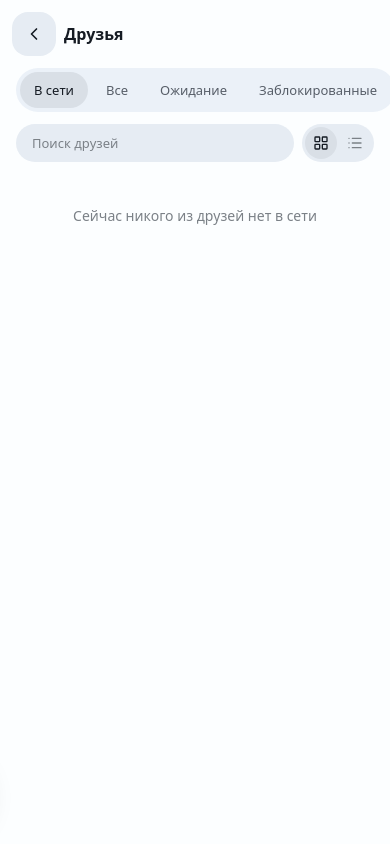
Test case: phone list screen › switches between servers and chats from its tab bar, staying on the list
The image size is (390, 844).
Step 1. Click the button named "Открыть меню" → (34, 34), box [12,12,56,56]
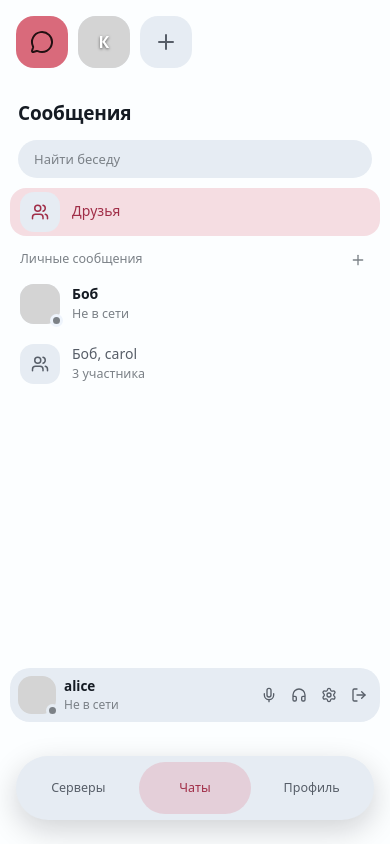
Step 2. Click the button "Серверы" → (78, 788), box [22,762,135,814]
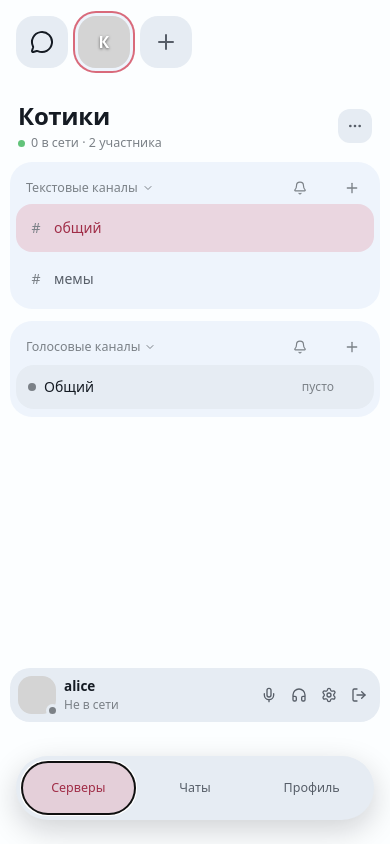
Expected: the element with test id "navigation-drawer" has attribute data-open="true"
Expected: the button "Серверы" is marked as current, [22,762,135,814]
Step 3. Click the button "Чаты" → (195, 788), box [139,762,251,814]
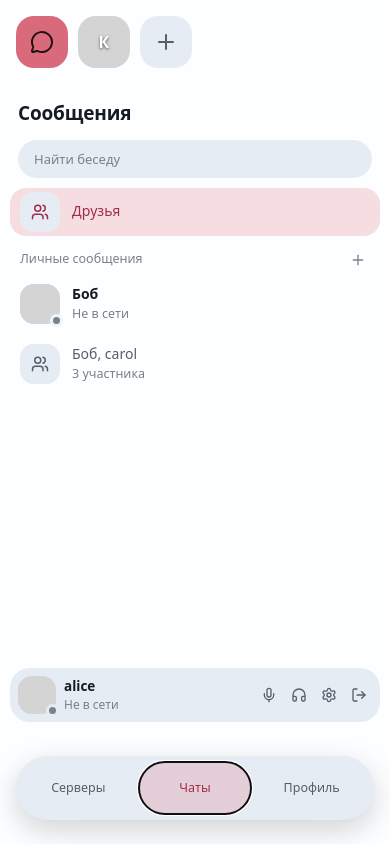
Expected: the element with test id "navigation-drawer" has attribute data-open="true"
Step 4. Click the button "Профиль" → (312, 788), box [255,762,368,814]
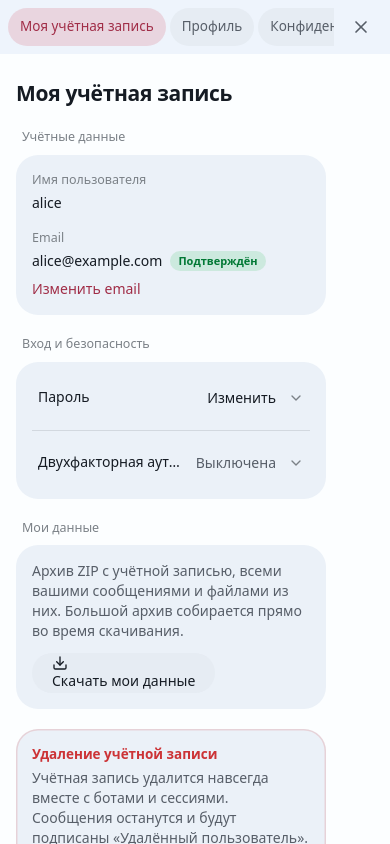
Expected: the dialog named "Настройки пользователя" is shown
